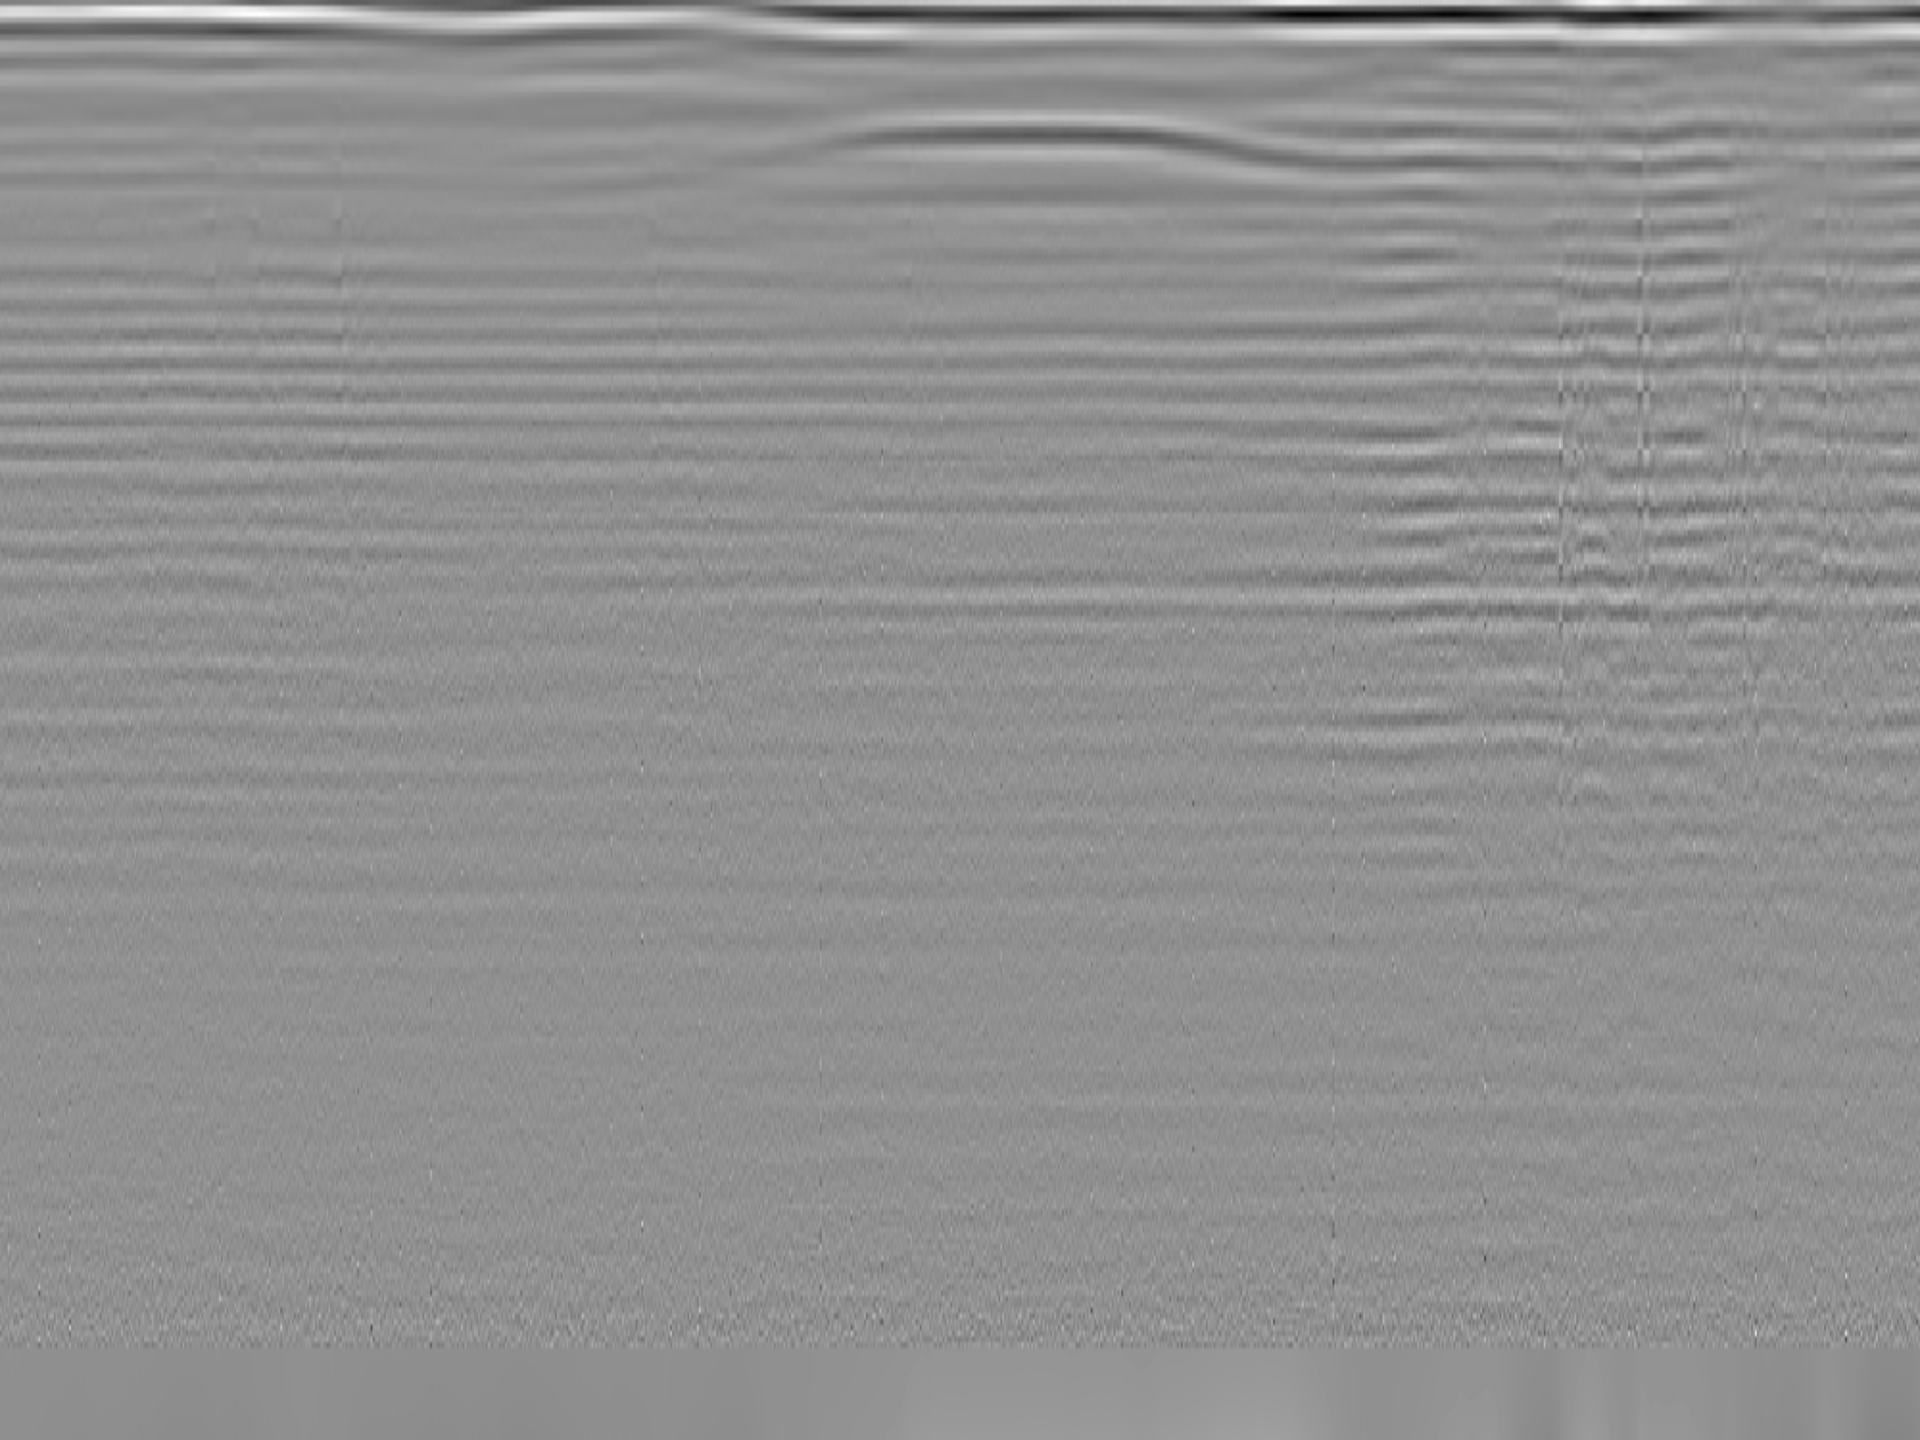Tunnel: (574, 115, 1557, 185)
